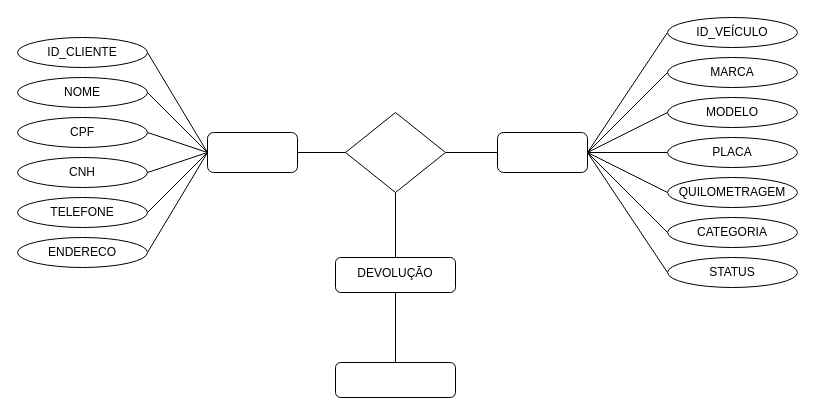
Image size: 815x415. Some labels were removed from this diagram. Here are the shapes that lost their labels. From the top down, the centre of each, then its label:
At pixel 252 152: "CLIENTE".
At pixel 395 152: "REALIZA".
At pixel 542 152: "VEÍCULO".
At pixel 395 380: "PAGAMENTO".
